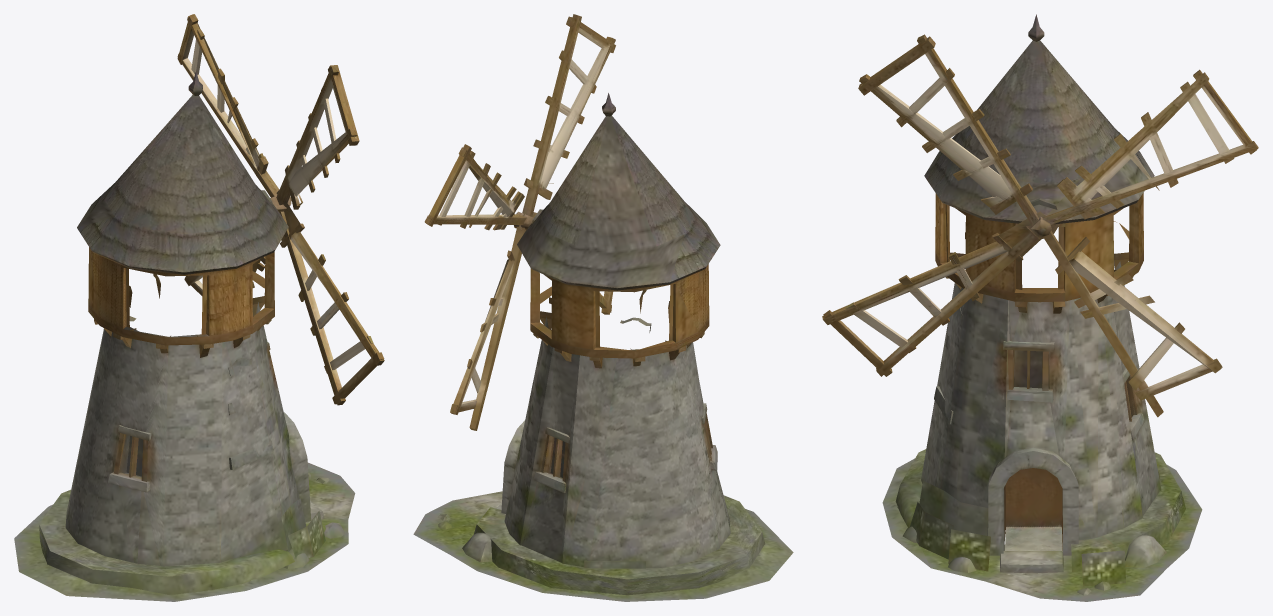
The model's file is village_mill.glb.
3 renders of one model, left to right at view 1: azimuth 30°, elevation 25°; view 2: azimuth 150°, elevation 25°; view 3: azimuth 270°, elevation 25°, orthographic. The views are drawn at different scales.
Visible parts, largest first — view 1: tripo_node_6e500253-216d-4ae3-81da-6ff752080c54; view 2: tripo_node_6e500253-216d-4ae3-81da-6ff752080c54; view 3: tripo_node_6e500253-216d-4ae3-81da-6ff752080c54.
Part boxes in pixels (bbox=[...]): tripo_node_6e500253-216d-4ae3-81da-6ff752080c54: bbox=[14, 14, 384, 601]; tripo_node_6e500253-216d-4ae3-81da-6ff752080c54: bbox=[413, 14, 793, 601]; tripo_node_6e500253-216d-4ae3-81da-6ff752080c54: bbox=[822, 14, 1258, 601].
Bounding box in the file's own units: 0.7303 × 1 × 0.7528.
Materials: 1 (1 with a texture image).
